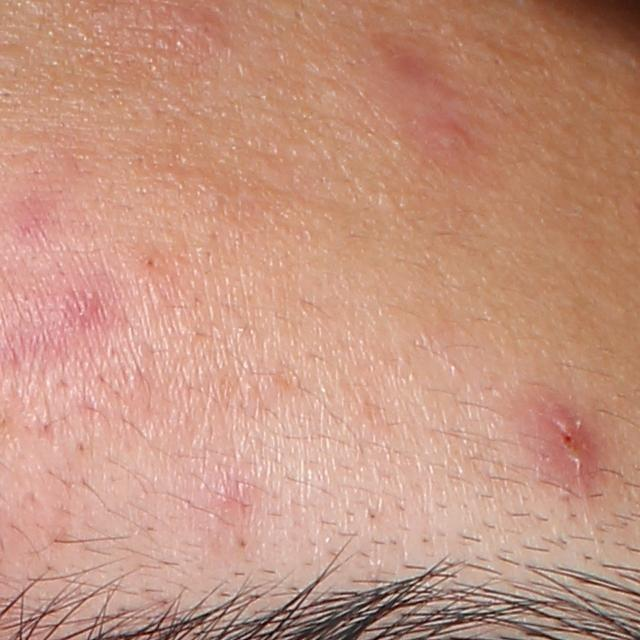comedo: (143, 255, 158, 270)
papule: (523, 401, 595, 485), (170, 10, 221, 55)
